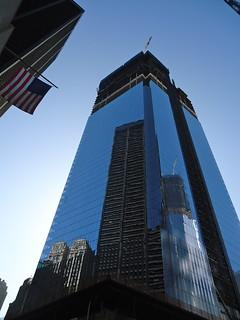building: (34, 49, 240, 320)
